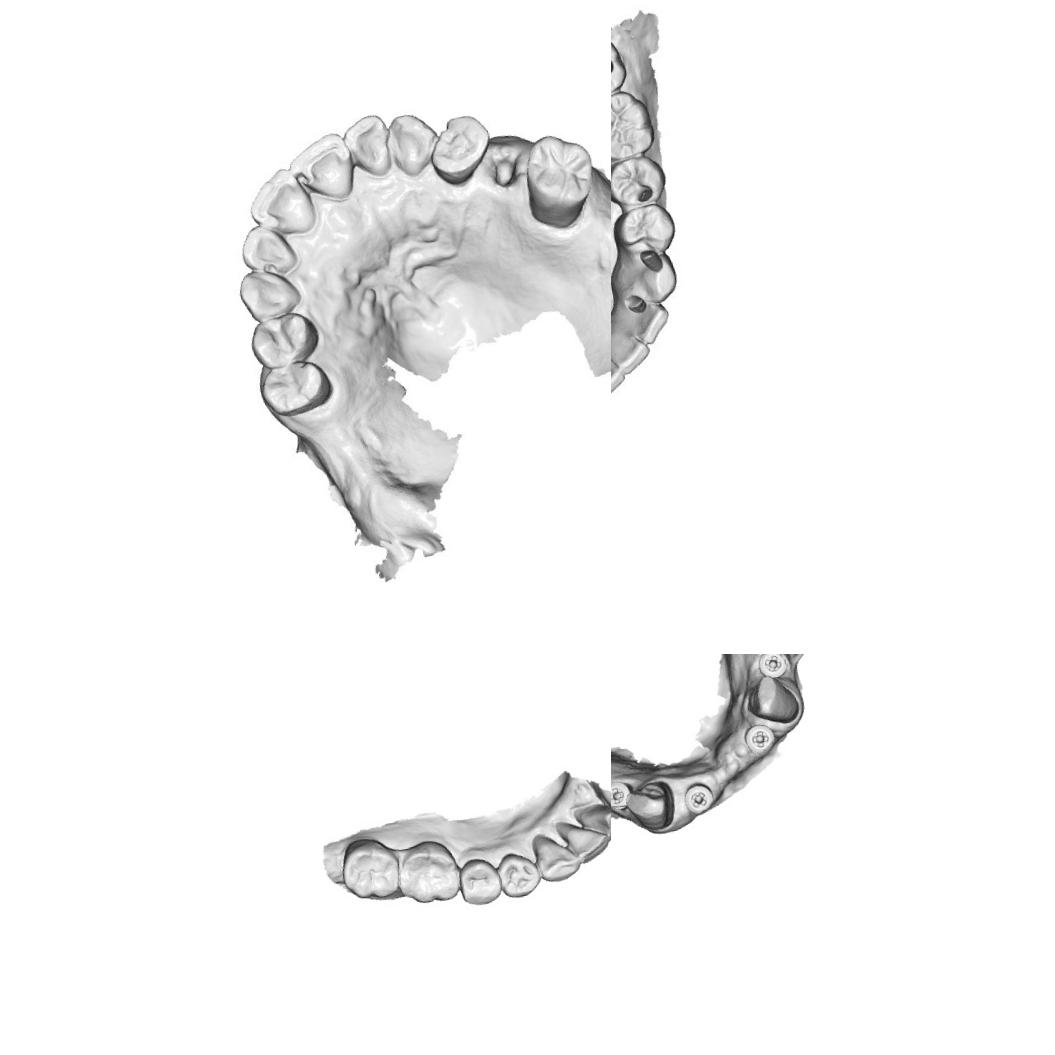canine: (235, 263, 306, 325), (383, 109, 443, 182), (611, 245, 677, 307), (742, 670, 802, 729), (528, 827, 585, 886), (622, 778, 678, 834)
implant_plus: (681, 781, 716, 817), (742, 722, 777, 757), (756, 654, 790, 680), (611, 777, 634, 813)
incisor: (241, 164, 322, 241), (280, 130, 356, 209), (340, 110, 398, 182), (236, 220, 299, 280), (620, 293, 671, 348), (559, 815, 611, 867), (569, 799, 611, 845), (611, 324, 643, 371), (611, 342, 626, 394)
molar: (512, 126, 602, 220), (390, 833, 467, 910), (334, 831, 406, 907), (611, 87, 660, 163), (611, 30, 629, 102)
premolar: (423, 110, 496, 190), (254, 356, 340, 420), (246, 308, 323, 370), (611, 202, 677, 261), (611, 153, 672, 215), (493, 846, 544, 902), (455, 854, 504, 910)
